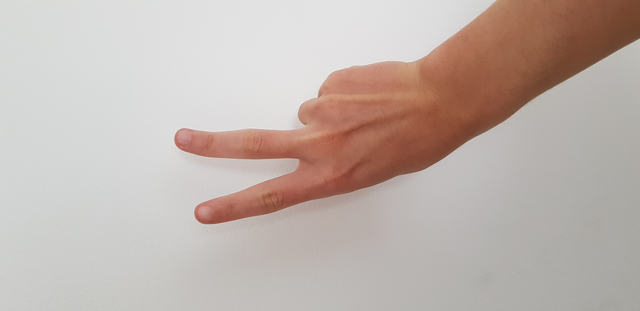Scissors: (158, 43, 490, 235)
